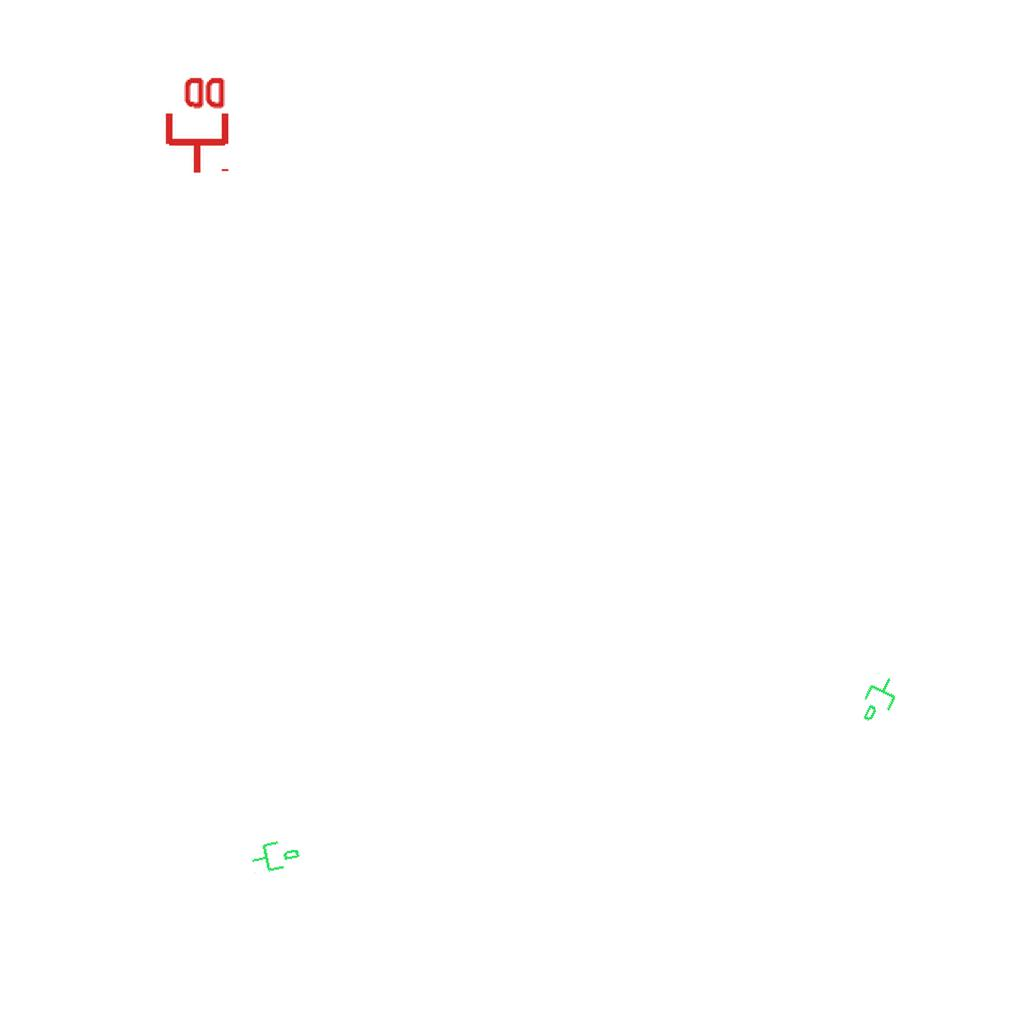Datenanschluss_einfach: (853, 670, 907, 730), (247, 833, 303, 877)
Datenanschluss_zweifach: (161, 73, 230, 176)
